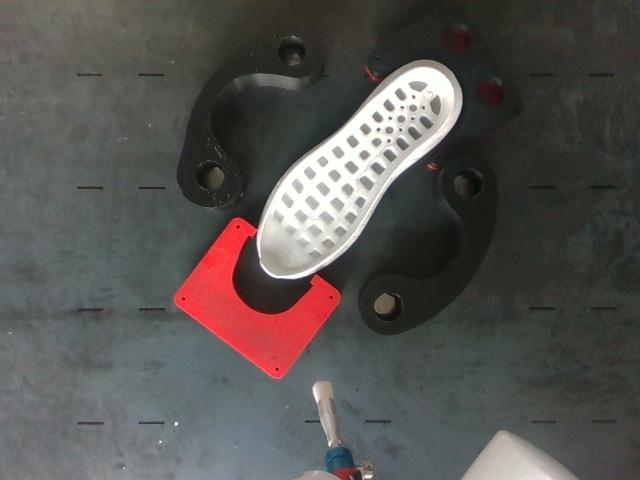shoes: (260, 67, 453, 276)
